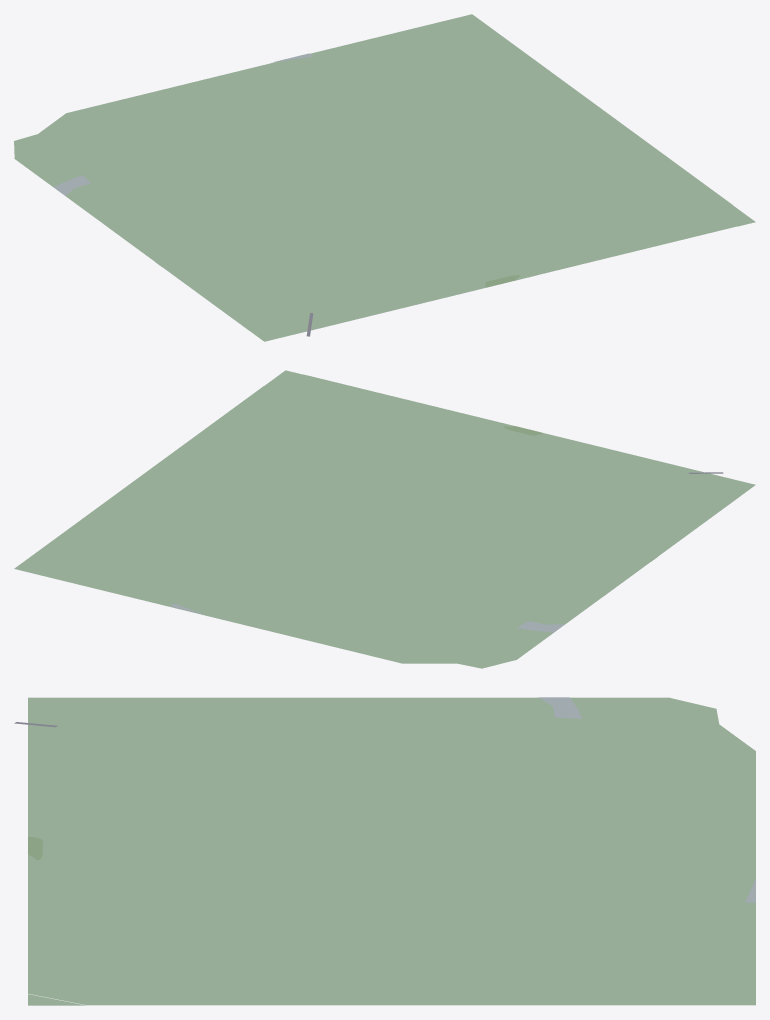
Rendered from 135_80_mid.glb.
3 views of the same model, one above another, from view 1: azimuth 30°, elevation 25°; view 2: azimuth 150°, elevation 25°; view 3: azimuth 270°, elevation 25° (orthographic). The views are drawn at different scales.
Size of the model in its own units: 500 by 6.41 by 510.
